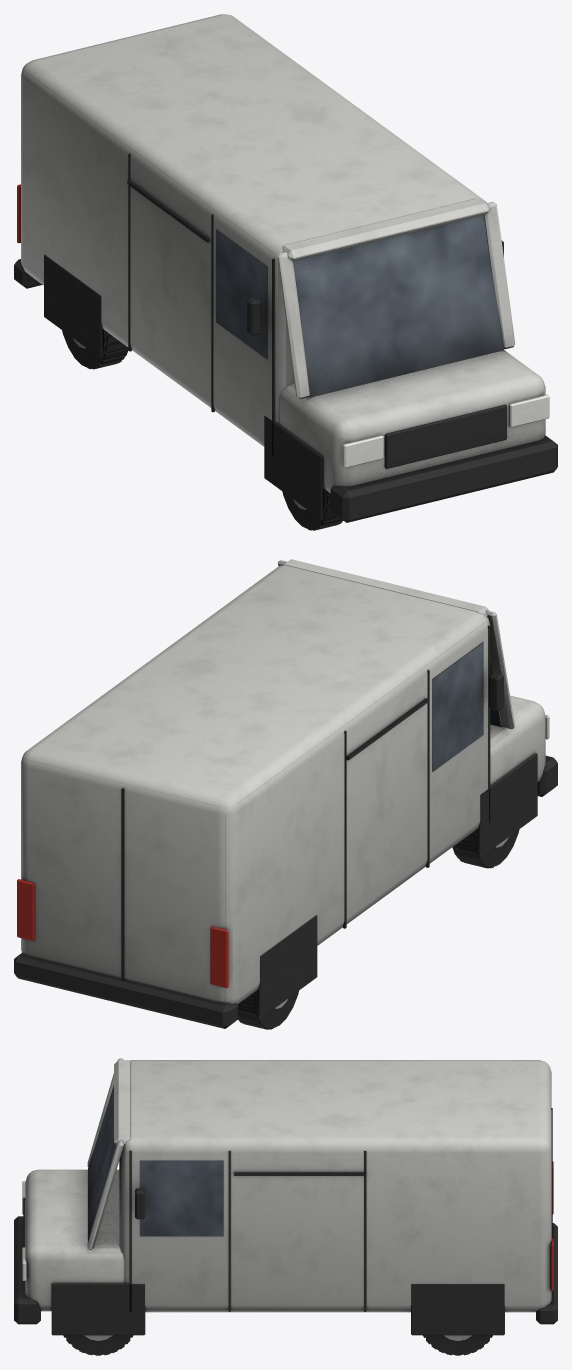
The model's file is van_white.glb.
3 views of the same model, one above another, from view 1: azimuth 30°, elevation 25°; view 2: azimuth 150°, elevation 25°; view 3: azimuth 270°, elevation 25° (orthographic). The views are drawn at different scales.
Visible parts, largest first — view 1: van_white; view 2: van_white; view 3: van_white.
Part boxes in pixels (<box>): van_white: <box>14,14,557,530</box>; van_white: <box>14,559,557,1029</box>; van_white: <box>14,1058,557,1355</box>.
Bounding box in the file's own units: 2.29 × 2.31 × 5.22.
Materials: 1 (1 with a texture image).
